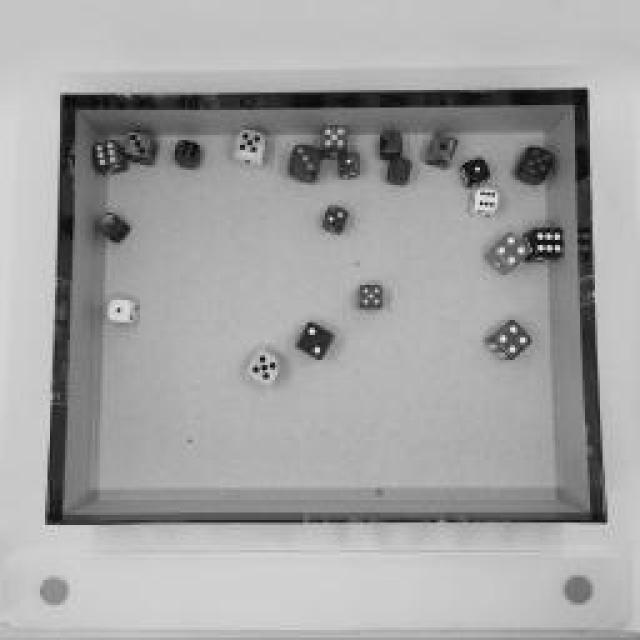dice_1: (424, 126, 461, 174), (106, 296, 139, 329), (382, 155, 412, 190), (462, 158, 492, 190), (337, 149, 365, 181)
dice_2: (295, 320, 337, 365), (320, 202, 355, 238)
dice_3: (285, 141, 327, 189), (94, 210, 136, 245), (122, 129, 158, 169)
dice_4: (484, 230, 536, 280), (486, 316, 534, 366), (376, 130, 409, 158)
dice_5: (516, 145, 559, 190), (228, 131, 272, 174), (242, 354, 288, 391), (318, 121, 352, 154), (358, 284, 388, 311)
dice_6: (528, 226, 568, 269), (92, 147, 130, 175), (469, 186, 501, 219), (170, 139, 202, 171)
